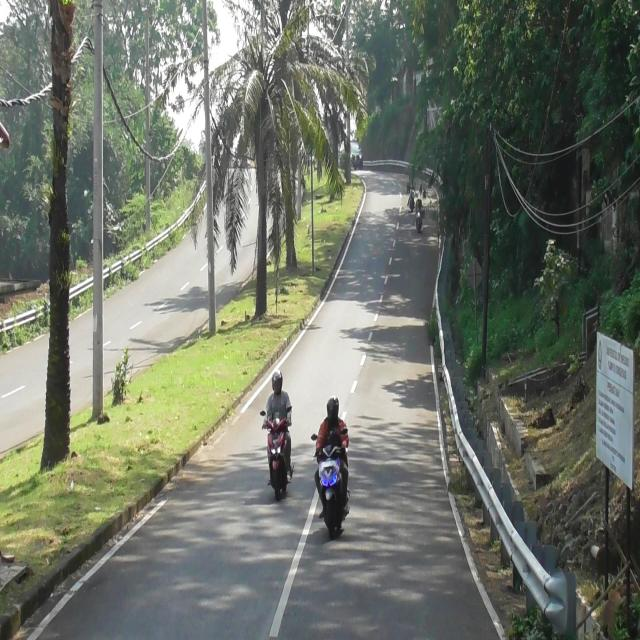motorcycle: (318, 442, 346, 536), (264, 412, 292, 502), (416, 211, 422, 234)
person: (315, 396, 350, 454), (262, 364, 294, 419), (415, 199, 422, 212)
rider_region: (311, 391, 350, 543), (263, 362, 295, 506), (416, 194, 422, 237)
